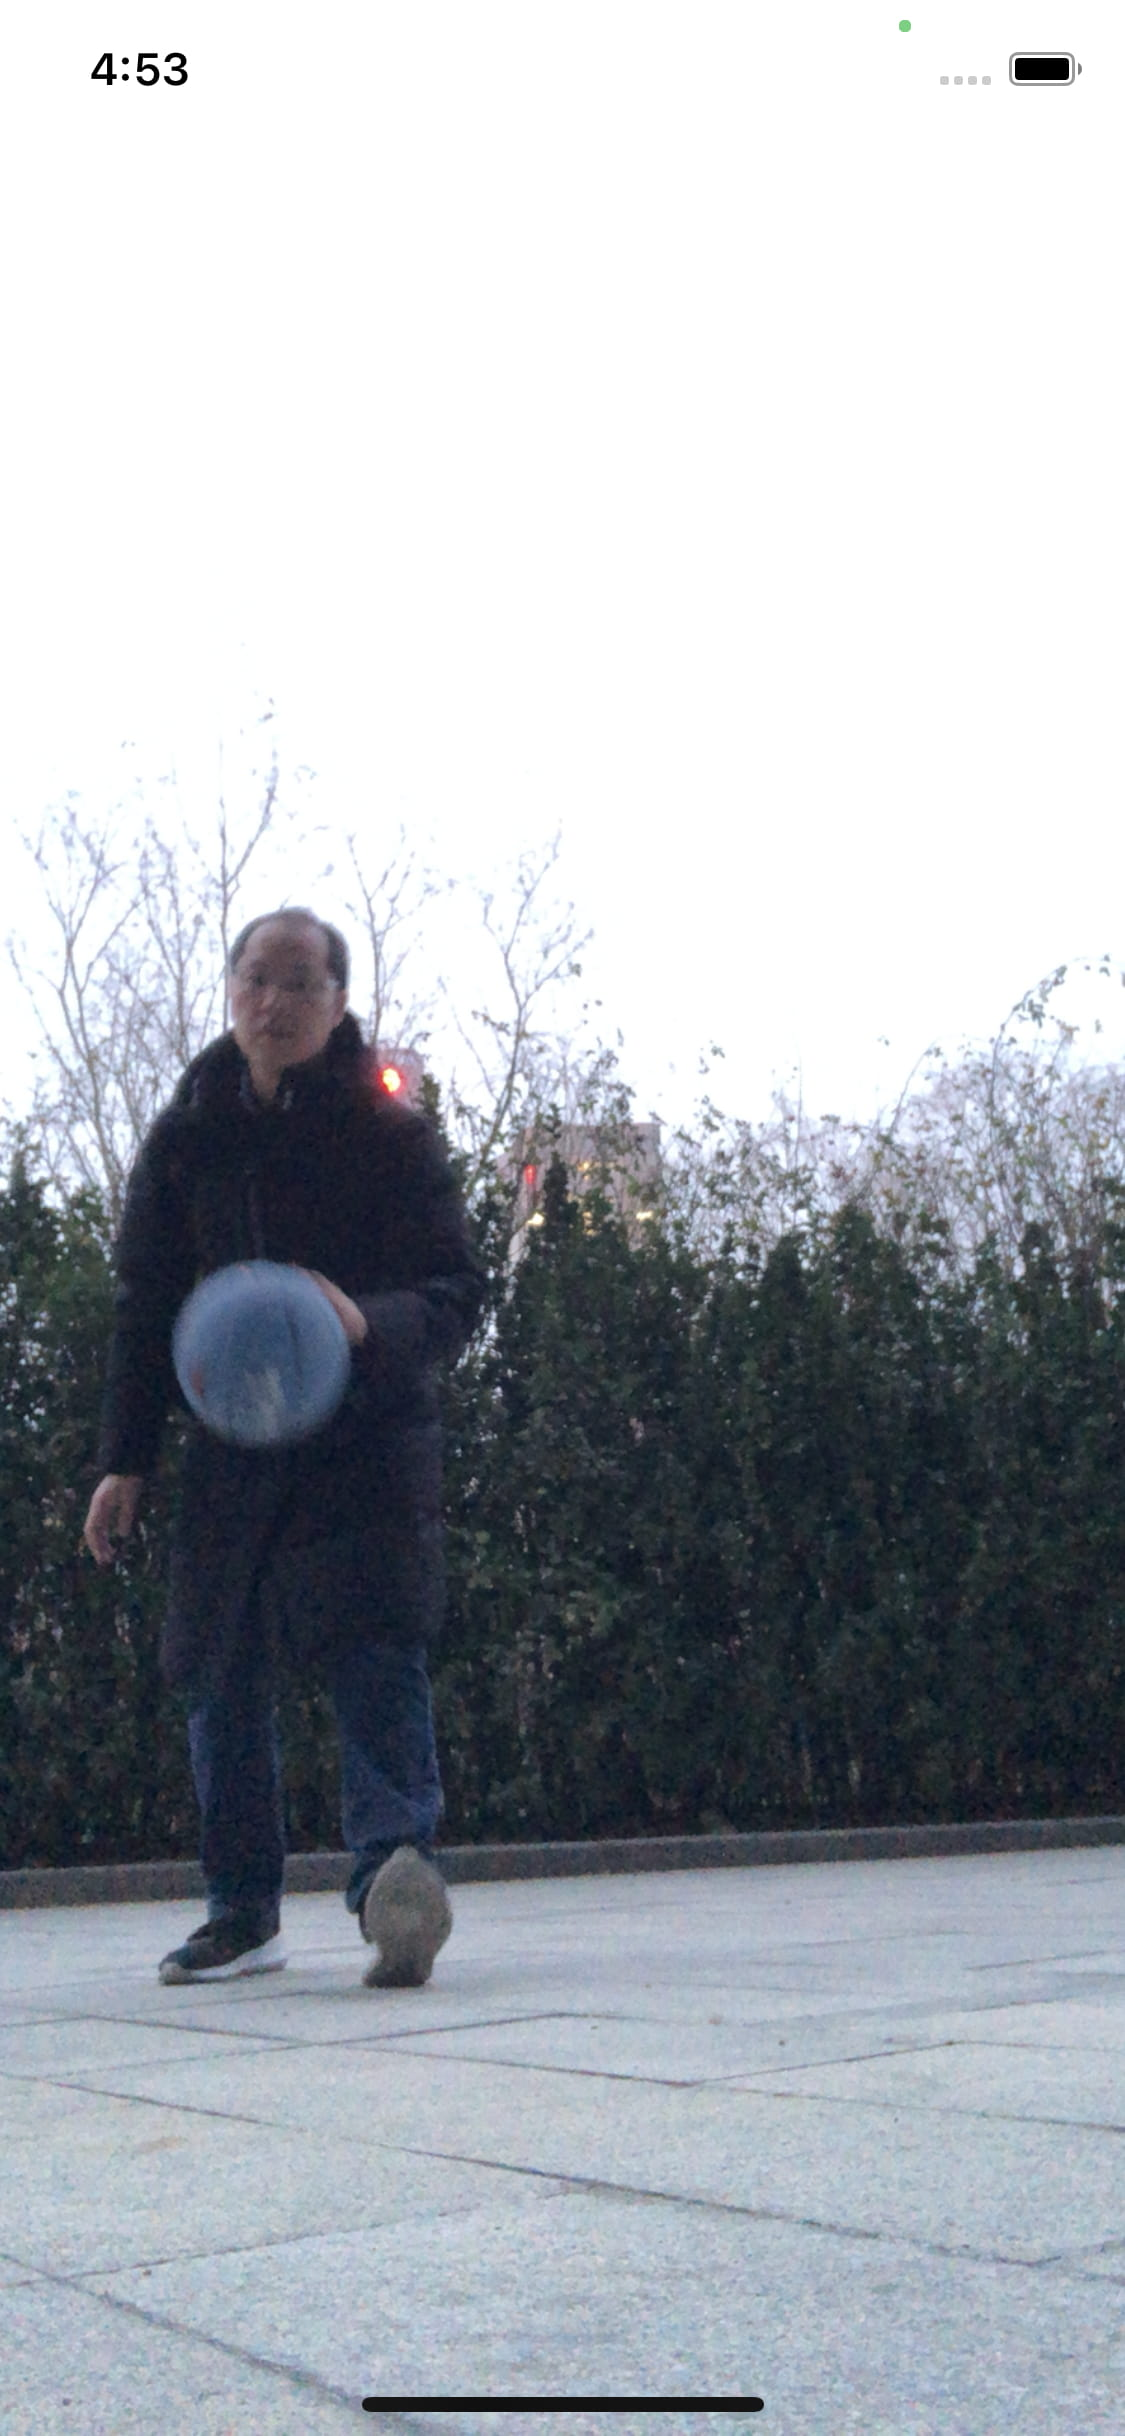ball: (172, 1261, 354, 1443)
